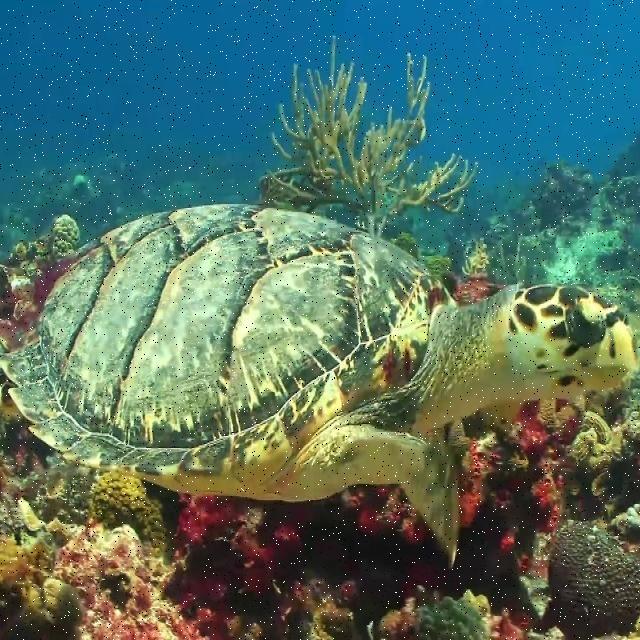aquatic plants: (257, 32, 485, 235)
fish: (0, 204, 639, 566)
